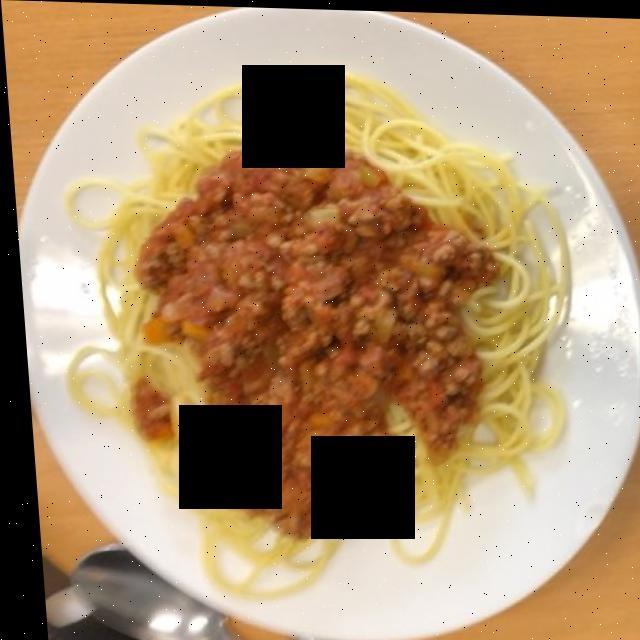bolognaise-sauce: (140, 147, 485, 533)
pasta: (70, 77, 549, 600)
